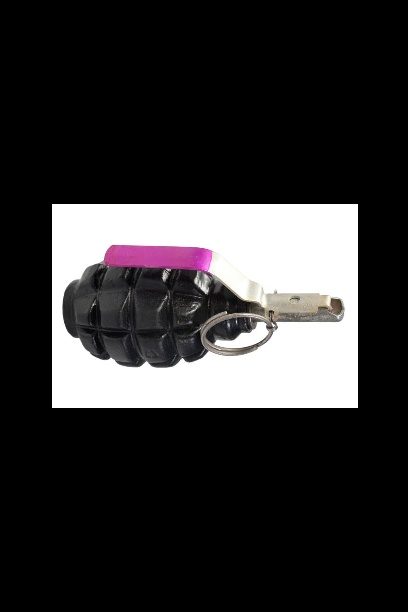e1: (60, 242, 349, 369)
